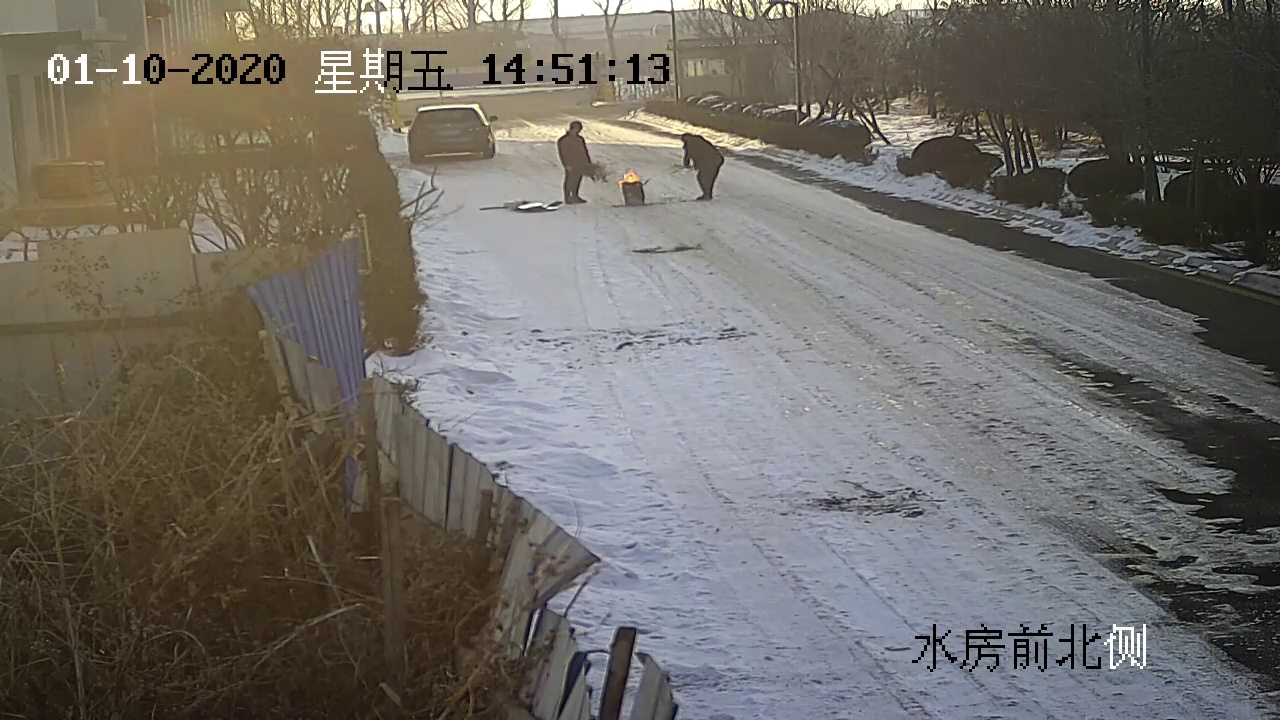fire: (618, 170, 643, 182)
